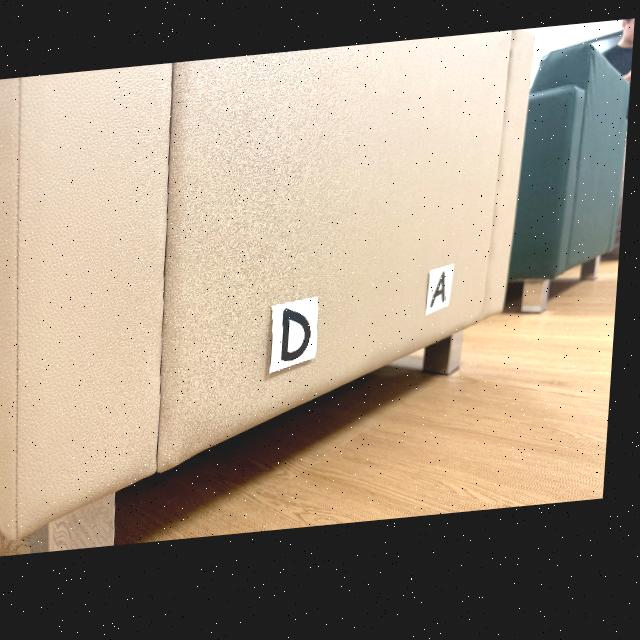A: (435, 281, 451, 317)
D: (286, 315, 316, 367)
